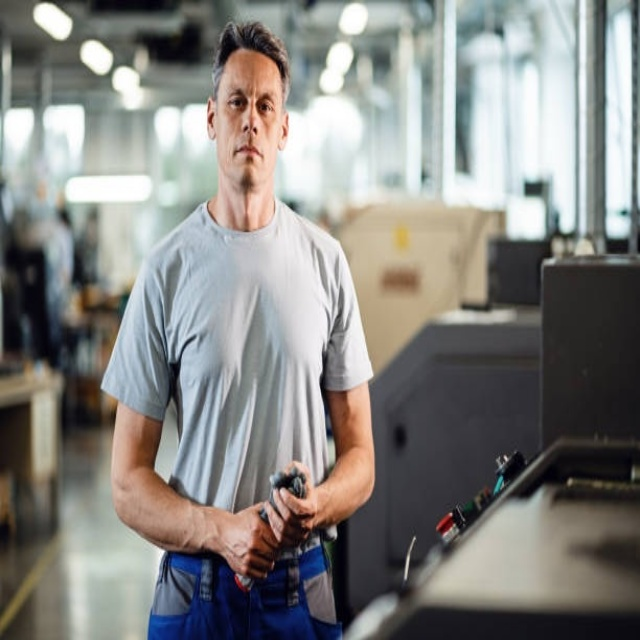Sin_gafas: (220, 80, 278, 125)
Sin_guantes: (217, 499, 288, 587), (270, 463, 321, 545)
Sin_mascara: (230, 138, 267, 174)
